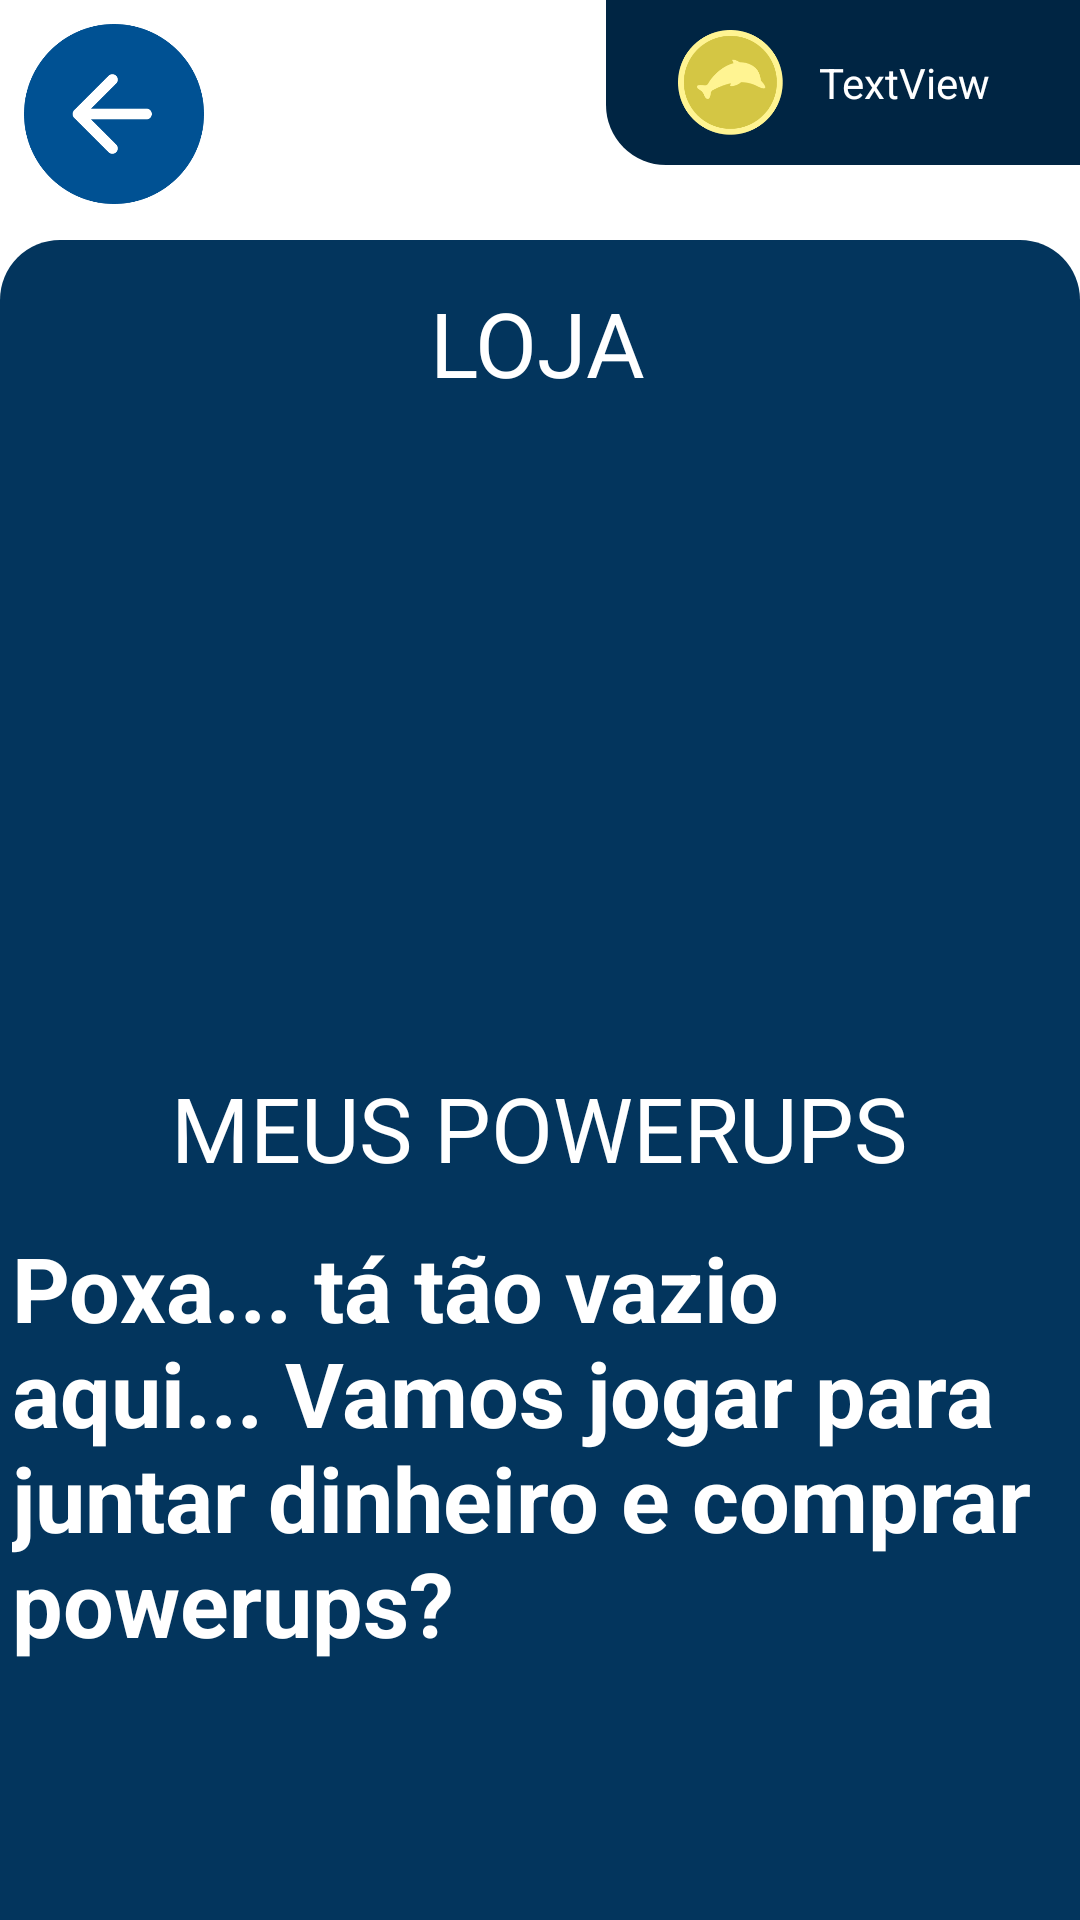

Locate icon controls on the screen. Image size 1080px×1920px, boxes as (x1, y1, x2, y2).
moeda: (678, 30, 783, 135)
seta voltar: (24, 24, 204, 204)
